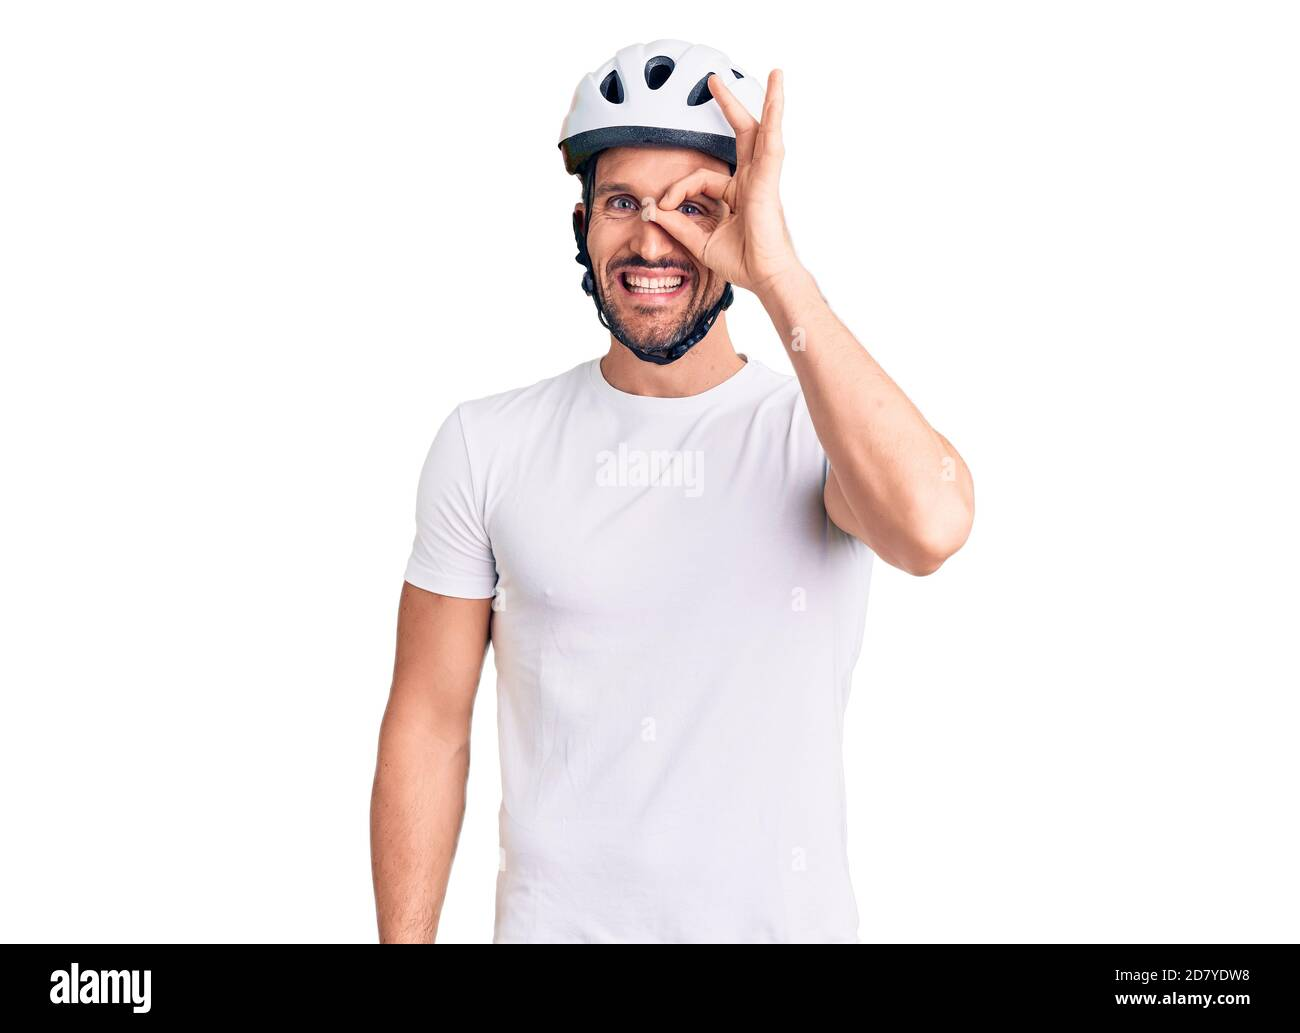helmet: (558, 39, 784, 362)
